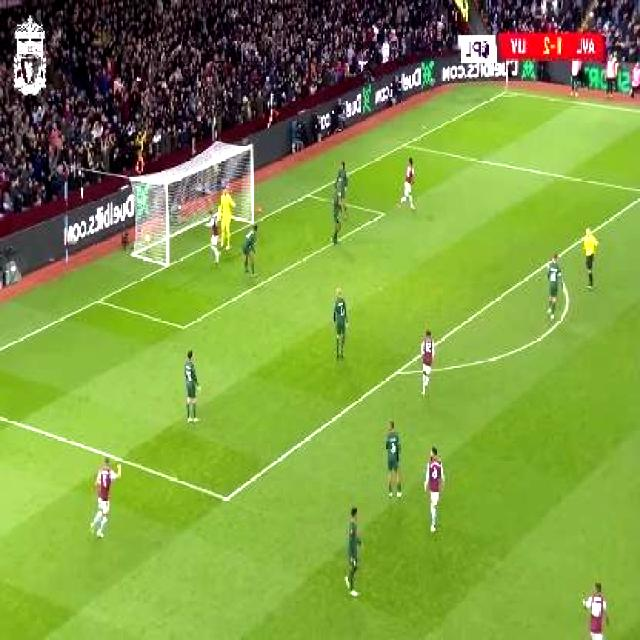bigarea_bottom_inner: (217, 483, 238, 512)
bigarea_top_outter: (398, 136, 412, 152)
bottom_arc_area_intersection: (390, 360, 408, 382)
corner: (500, 85, 518, 98)
smallarea_bottom_inner: (174, 311, 194, 340)
smallarea_bottom_outter: (91, 288, 109, 310)
smallarea_top_inner: (375, 203, 391, 222)
smallarea_top_outter: (303, 184, 317, 202)
top_arc_area_intersection: (542, 254, 556, 271)
